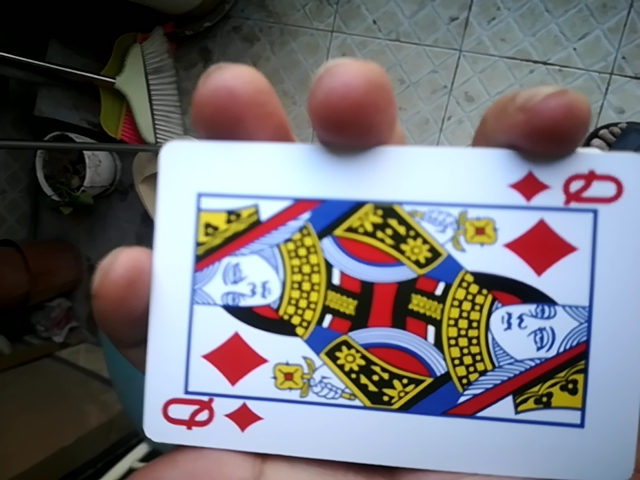fk q: (133, 128, 640, 480)
